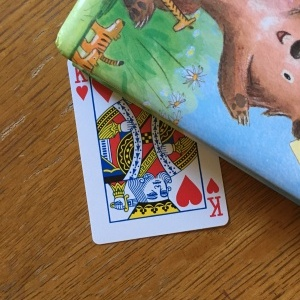card: (66, 55, 229, 245)
